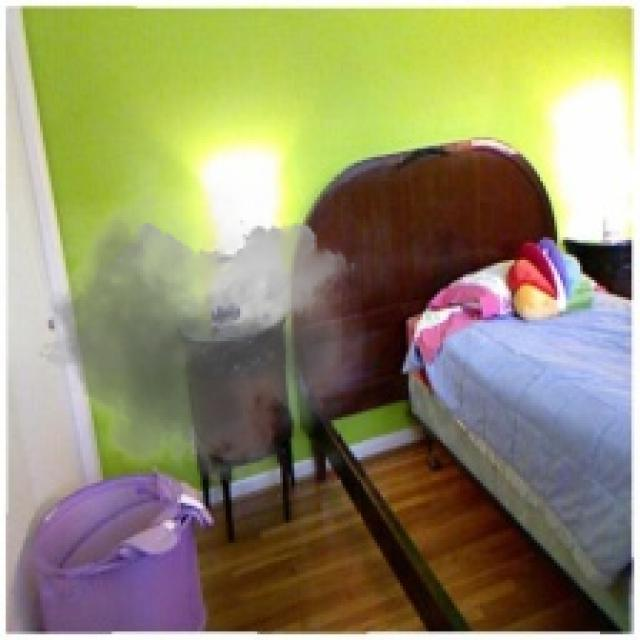Smoke: (26, 151, 368, 503)
